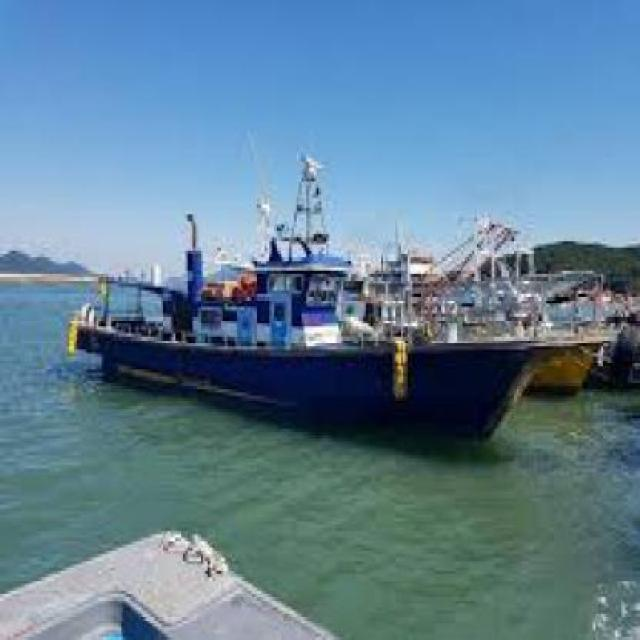fish-b: (61, 127, 627, 464)
